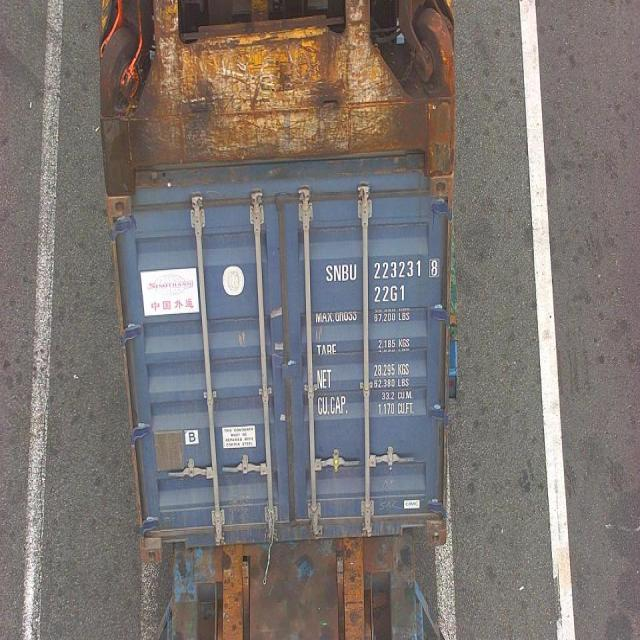ISO: (374, 285, 408, 303)
container_number: (324, 260, 441, 284)
